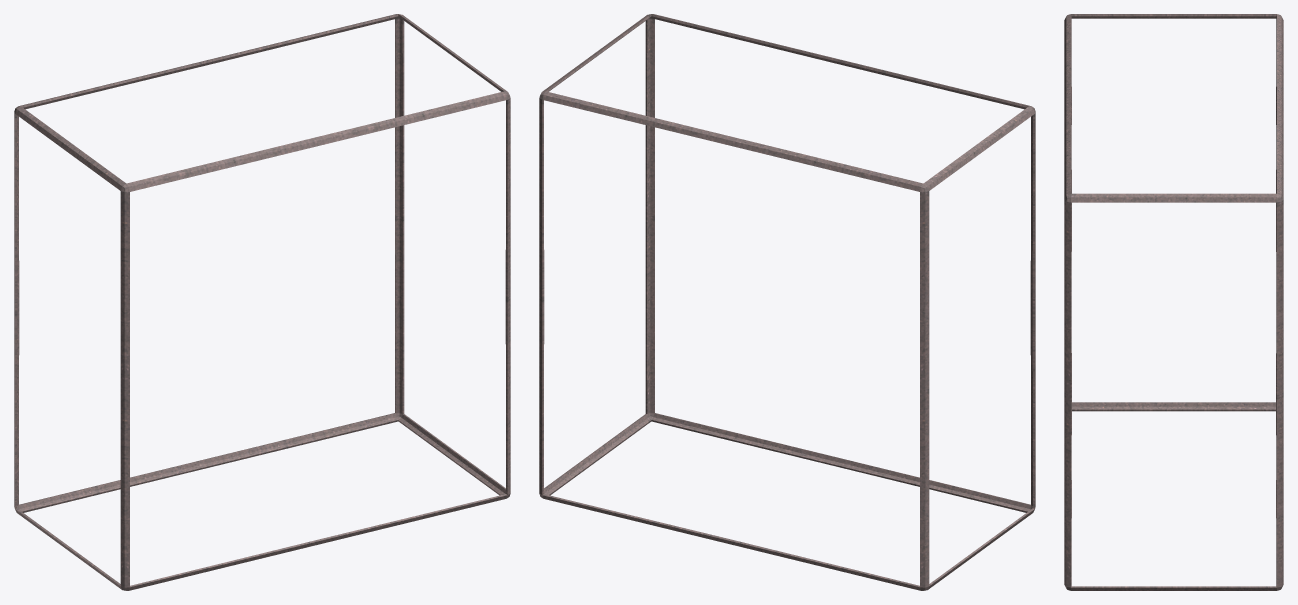
The model's file is O_arm.fbx.
The picture shows the model from 3 angles, left to right: view 1: azimuth 30°, elevation 25°; view 2: azimuth 150°, elevation 25°; view 3: azimuth 270°, elevation 25°; orthographic projection. The views are drawn at different scales.
Visible parts, largest first — view 1: module_carre_armature; view 2: module_carre_armature; view 3: module_carre_armature.
Boxes of the visible parts, <box> form: module_carre_armature: <box>14,14,510,590</box>; module_carre_armature: <box>539,14,1035,590</box>; module_carre_armature: <box>1064,14,1283,590</box>.
Size of the model in its own units: 200 by 200 by 100.
